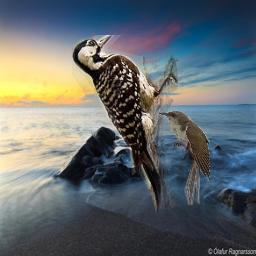Cuckoo: (158, 110, 210, 205)
Woodpecker: (72, 35, 178, 213)
